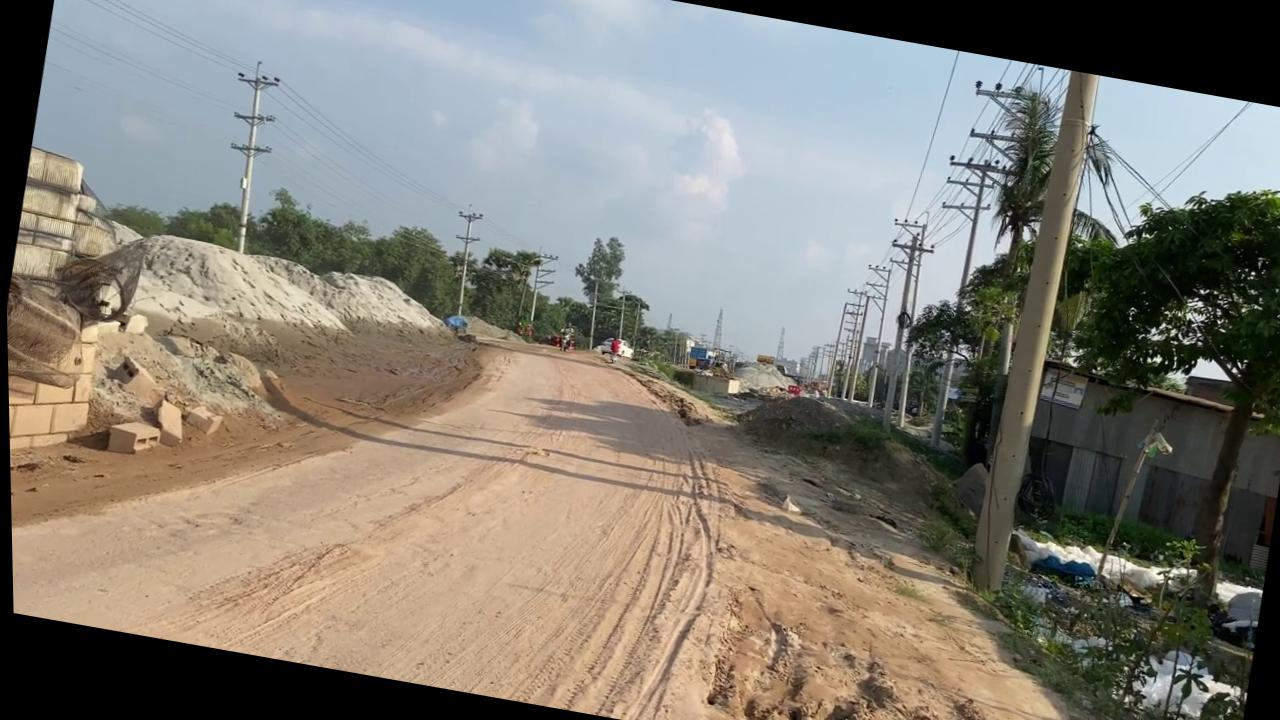Motorcycle: (554, 328, 573, 352)
Muddy road: (4, 245, 1255, 720)
Obstacle: (662, 362, 740, 398), (103, 415, 159, 458), (148, 397, 186, 446), (181, 400, 222, 436)
Pole: (951, 65, 1107, 598)
Traffic-sign: (1020, 155, 1280, 623), (557, 228, 628, 354)
Tree: (665, 337, 744, 398), (680, 302, 741, 378), (680, 340, 733, 378)
Upstairs: (966, 349, 1280, 570)
